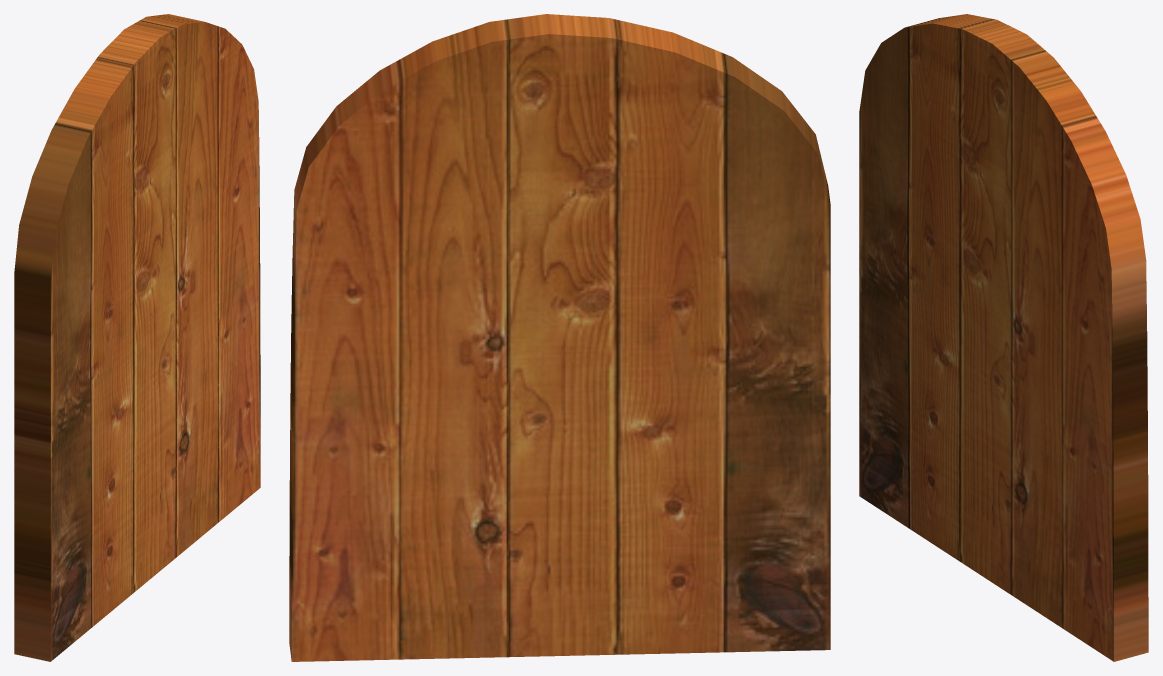
File: vs-fortress-door.glb
The picture shows the model from 3 angles, left to right: view 1: azimuth 30°, elevation 25°; view 2: azimuth 150°, elevation 25°; view 3: azimuth 270°, elevation 25°; orthographic projection. The views are drawn at different scales.
Parts seen in each view (by area): view 1: VsFortressDoor; view 2: VsFortressDoor; view 3: VsFortressDoor.
Boxes of the visible parts, box(x1,y1,x2,y2) form: VsFortressDoor: box(14, 14, 260, 661); VsFortressDoor: box(289, 14, 830, 661); VsFortressDoor: box(859, 14, 1148, 661).
Bounding box in the file's own units: 2.18 × 3.13 × 1.52.
Materials: 1 (1 with a texture image).
